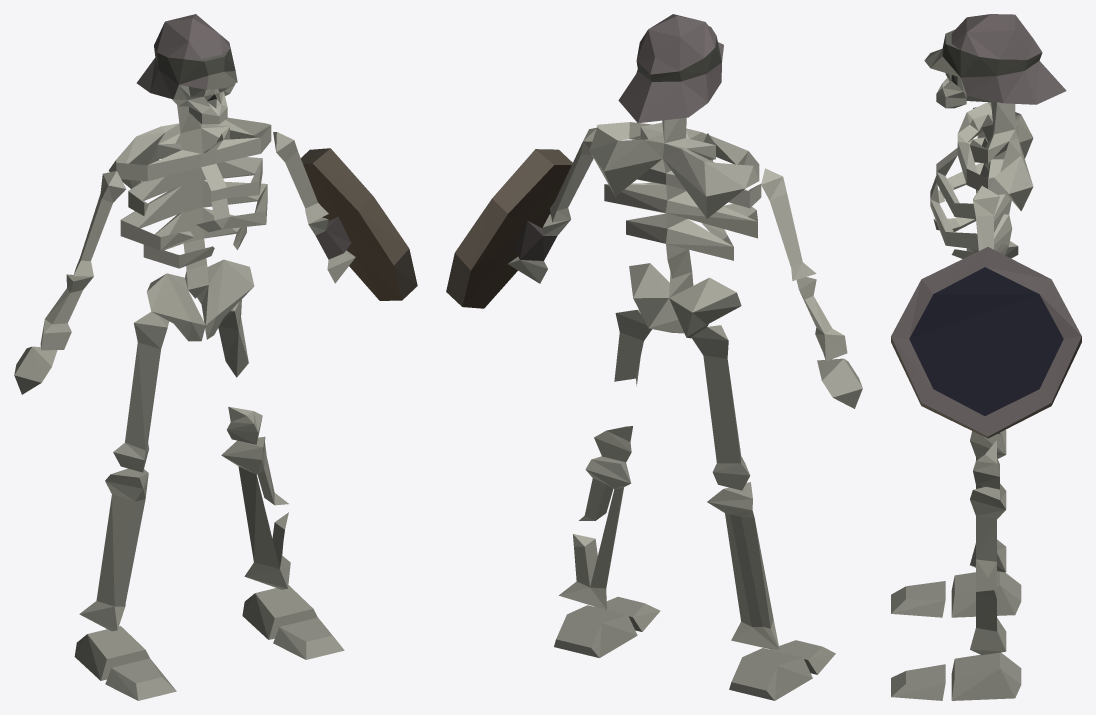
File: skeleton.gltf
The picture shows the model from 3 angles, left to right: view 1: azimuth 30°, elevation 25°; view 2: azimuth 150°, elevation 25°; view 3: azimuth 270°, elevation 25°; orthographic projection. The views are drawn at different scales.
Size of the model in its own units: 148 by 230 by 63.
1 material, 1 textured.
